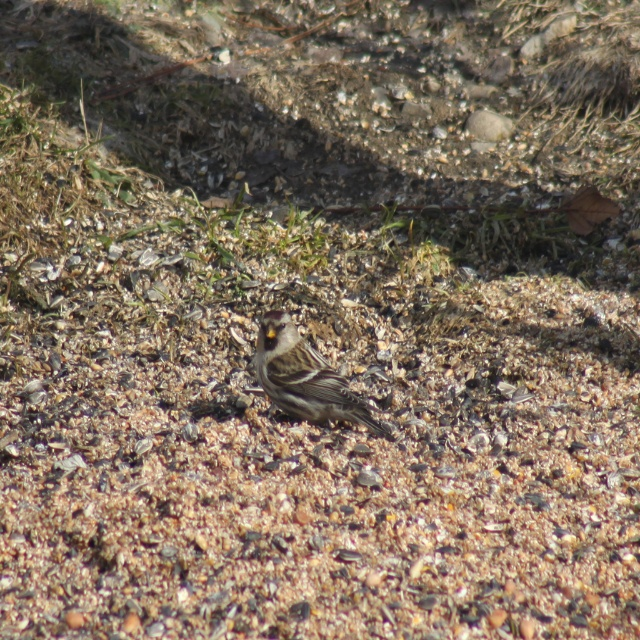Sparrow: (251, 308, 397, 441)
